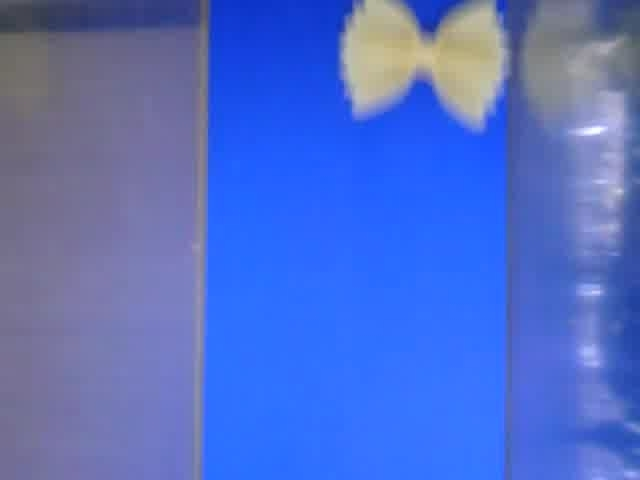farfalle: (341, 1, 510, 138)
